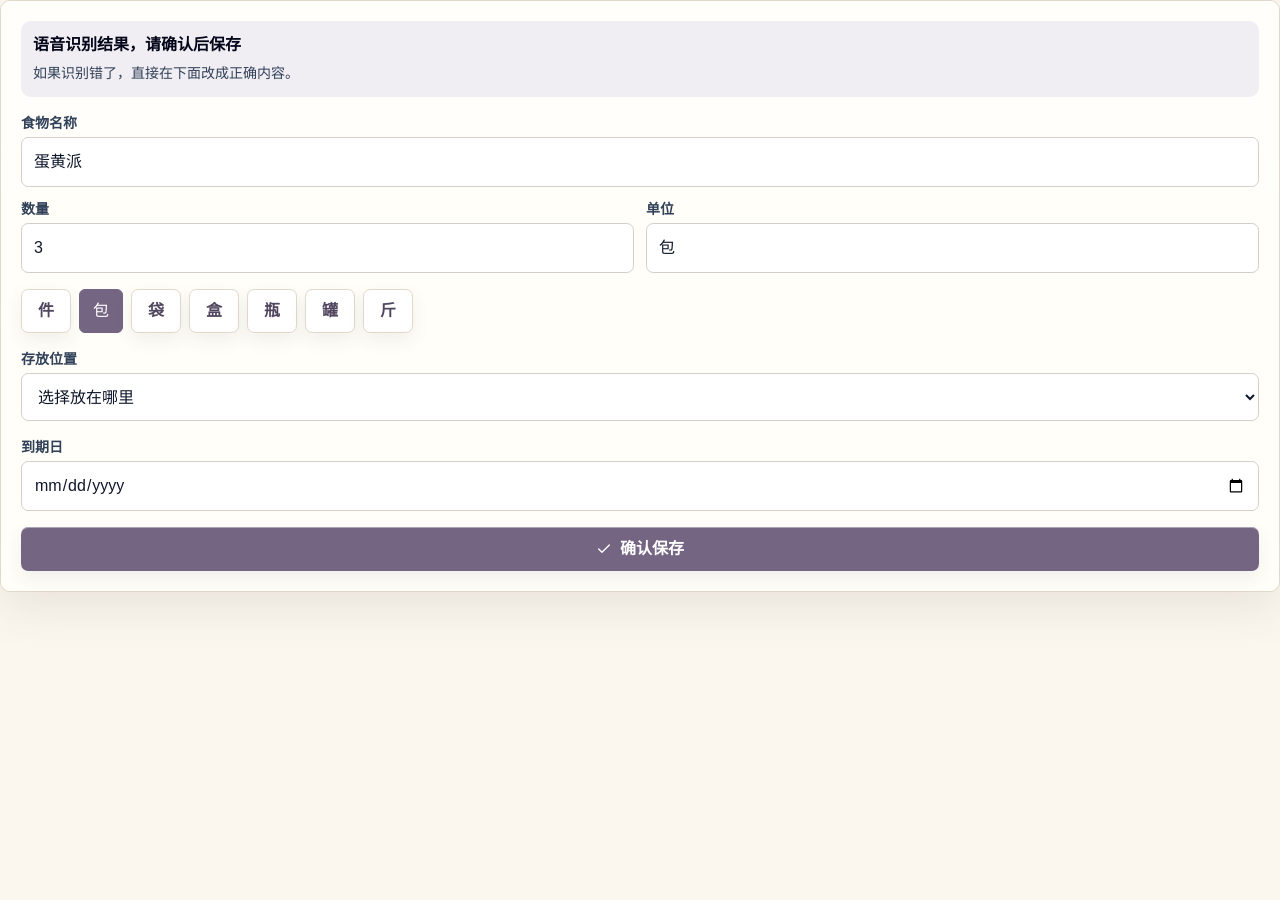
Test: AddFoodConfirmForm › blocks saving recognized drafts until required fields are confirmed
Click the button "确认保存" at (640, 549), box [21,527,1259,571]
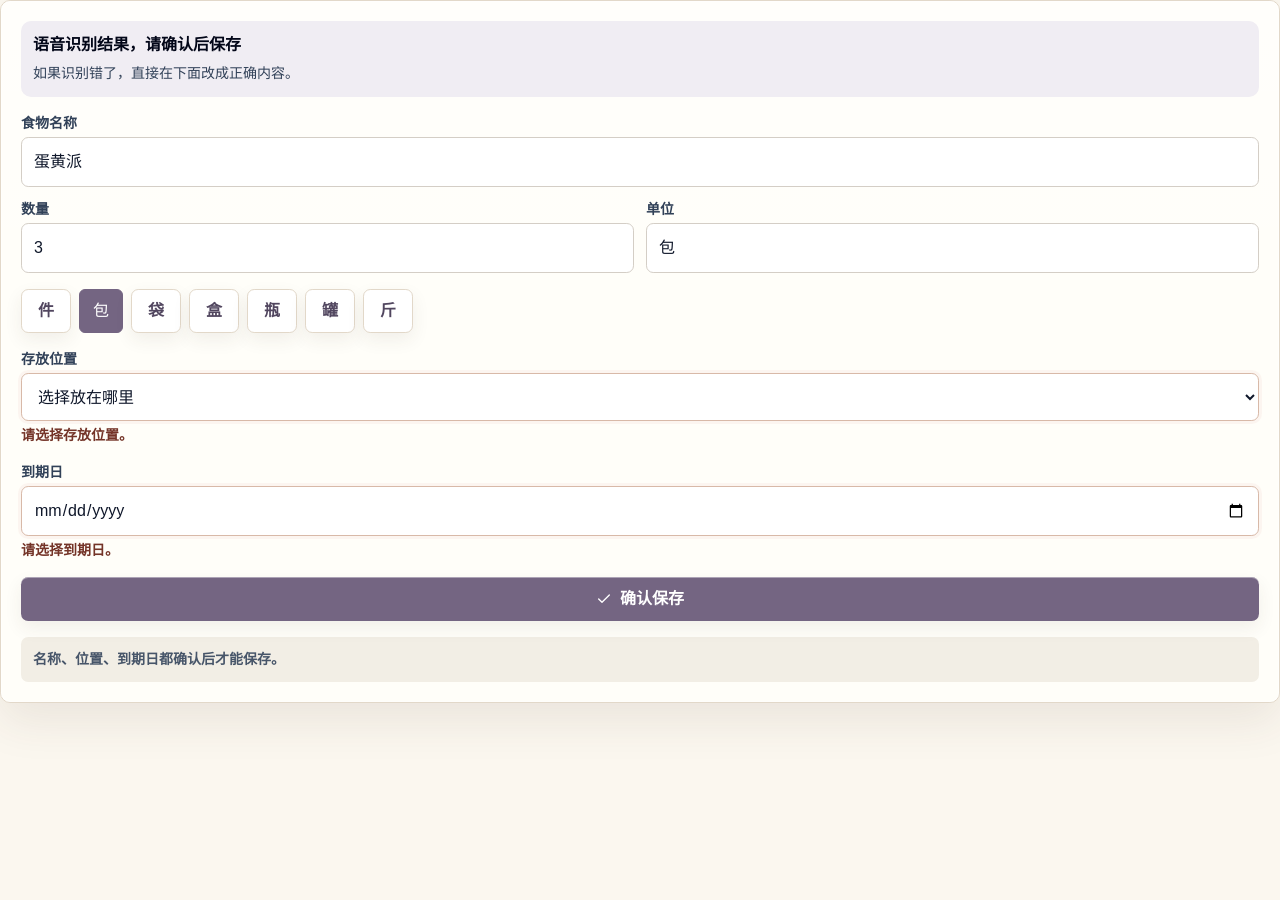
Result: the text "名称、位置、到期日都确认后才能保存。" is shown at [21,637,1259,682]
